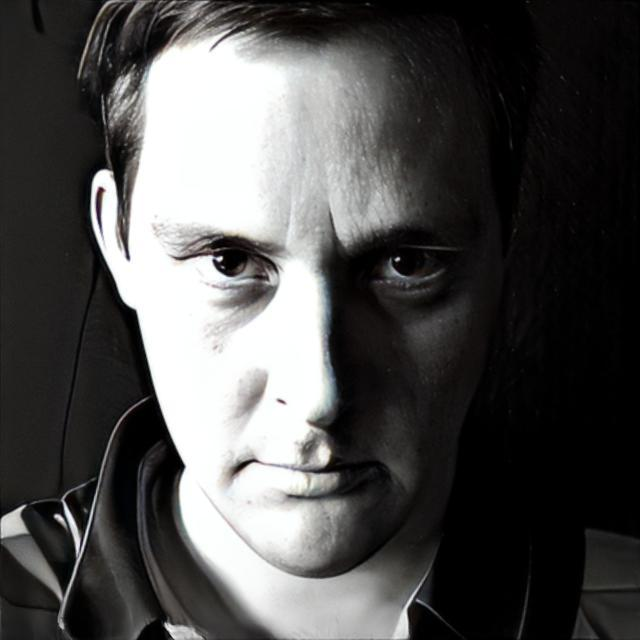anger: (263, 52, 640, 598)
